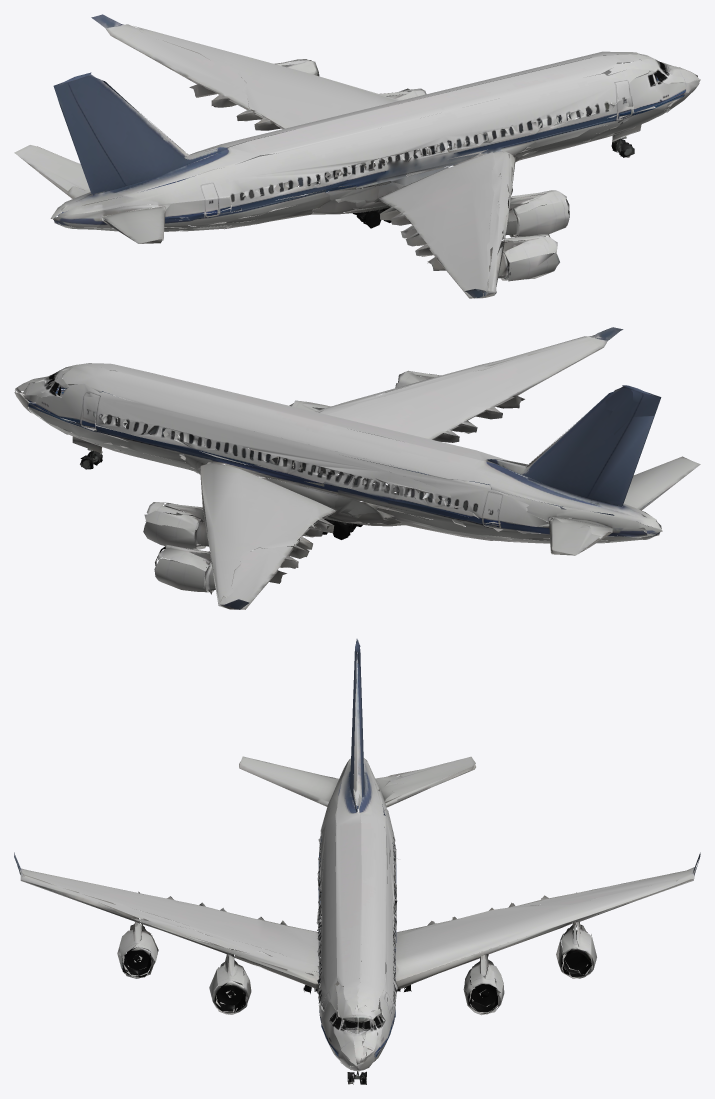
Rendered from airplane-quad-engine.glb.
The picture shows the model from 3 angles, top to bottom: view 1: azimuth 30°, elevation 25°; view 2: azimuth 150°, elevation 25°; view 3: azimuth 270°, elevation 25°; orthographic projection. The views are drawn at different scales.
Parts seen in each view (by area): view 1: node_0; view 2: node_0; view 3: node_0.
Boxes of the visible parts, x1,y1,x2,y2 form: node_0: [14, 14, 700, 298]; node_0: [14, 327, 700, 609]; node_0: [14, 639, 700, 1084].
Size of the model in its own units: 60.87 by 19.04 by 60.68.
Materials: 1 (1 with a texture image).
